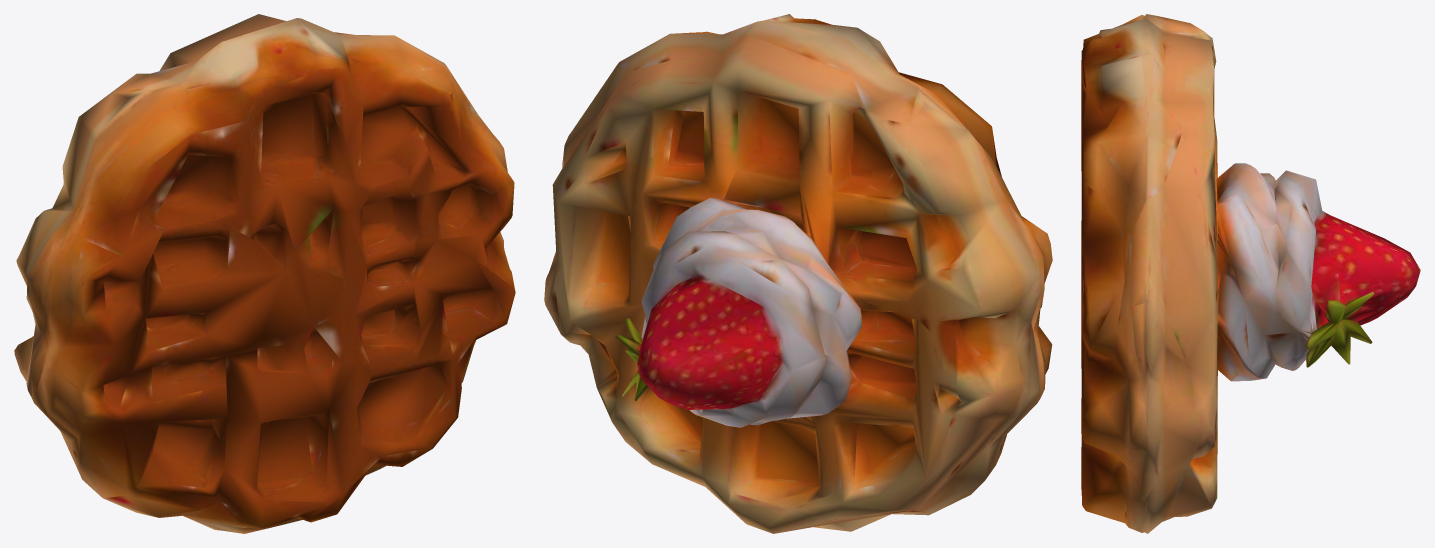
3 renders of one model, left to right at view 1: azimuth 30°, elevation 25°; view 2: azimuth 150°, elevation 25°; view 3: azimuth 270°, elevation 25°, orthographic. The views are drawn at different scales.
Parts seen in each view (by area): view 1: material; view 2: material; view 3: material.
Boxes of the visible parts, <box> form: material: <box>14,14,515,533</box>; material: <box>544,14,1052,533</box>; material: <box>1081,14,1420,533</box>.
Bounding box in the file's own units: 1 × 0.9937 × 0.6442.
1 material, 1 textured.
